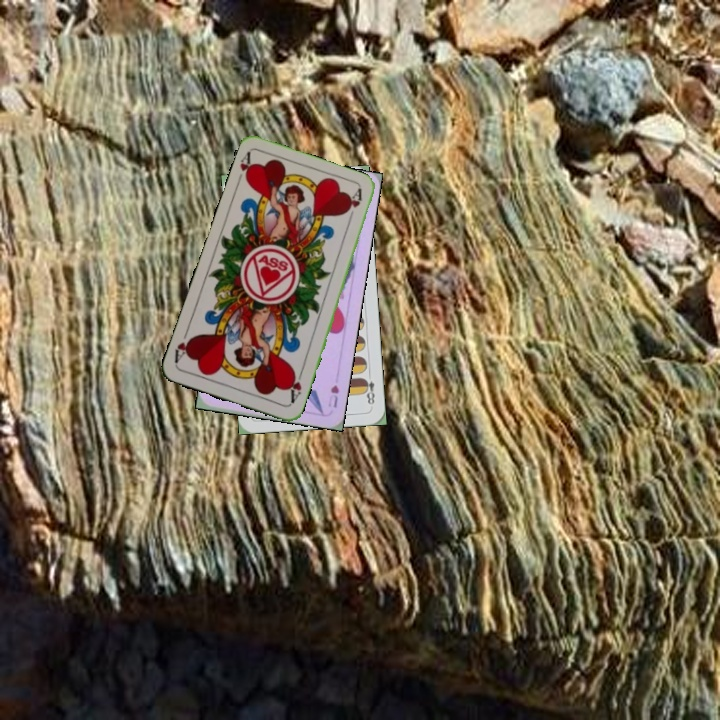E8: (359, 369, 377, 407)
HA: (233, 148, 257, 187), (285, 367, 305, 406)
HU: (324, 381, 342, 410)
